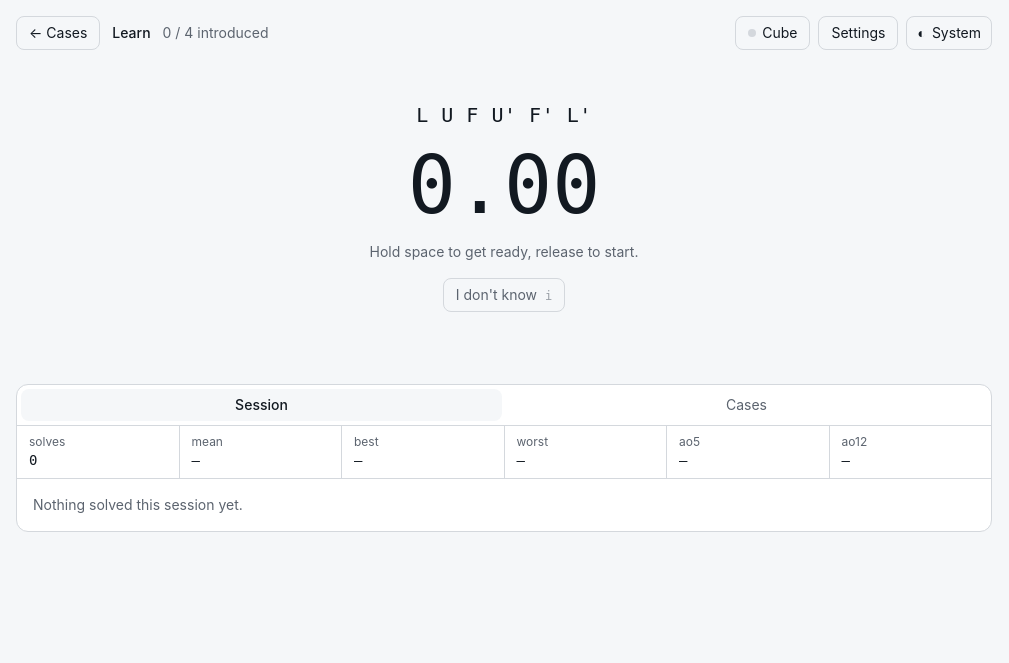
it: I don't know › records a blank with no time and shows the solution
This screenshot has width=1009, height=663.
Step 1. Click the button with test id "dont-know" → click(504, 294), box left=443, top=278, right=565, bottom=312
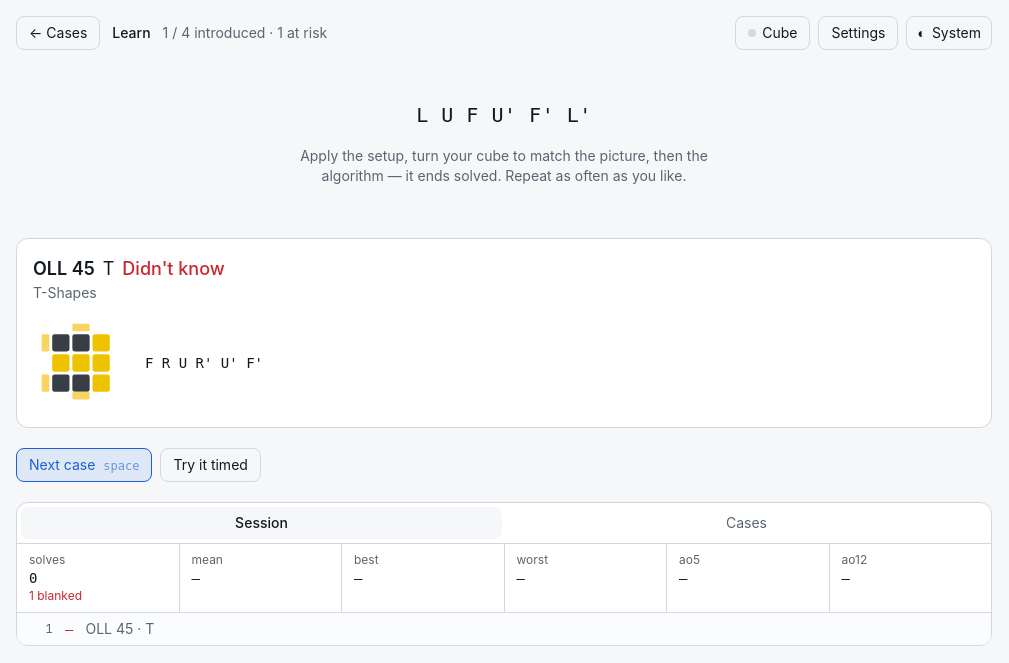
Check: the element with test id "case-reveal" shows "Didn't know", box left=122, top=258, right=225, bottom=278
Check: the element with test id "case-reveal" shows "F R U R' U' F'", box left=145, top=354, right=263, bottom=370
